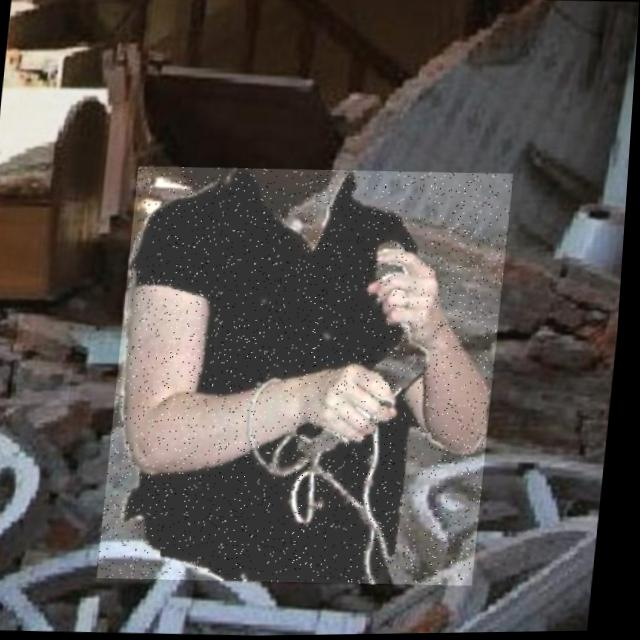Person in Rubble: (104, 162, 516, 591)
